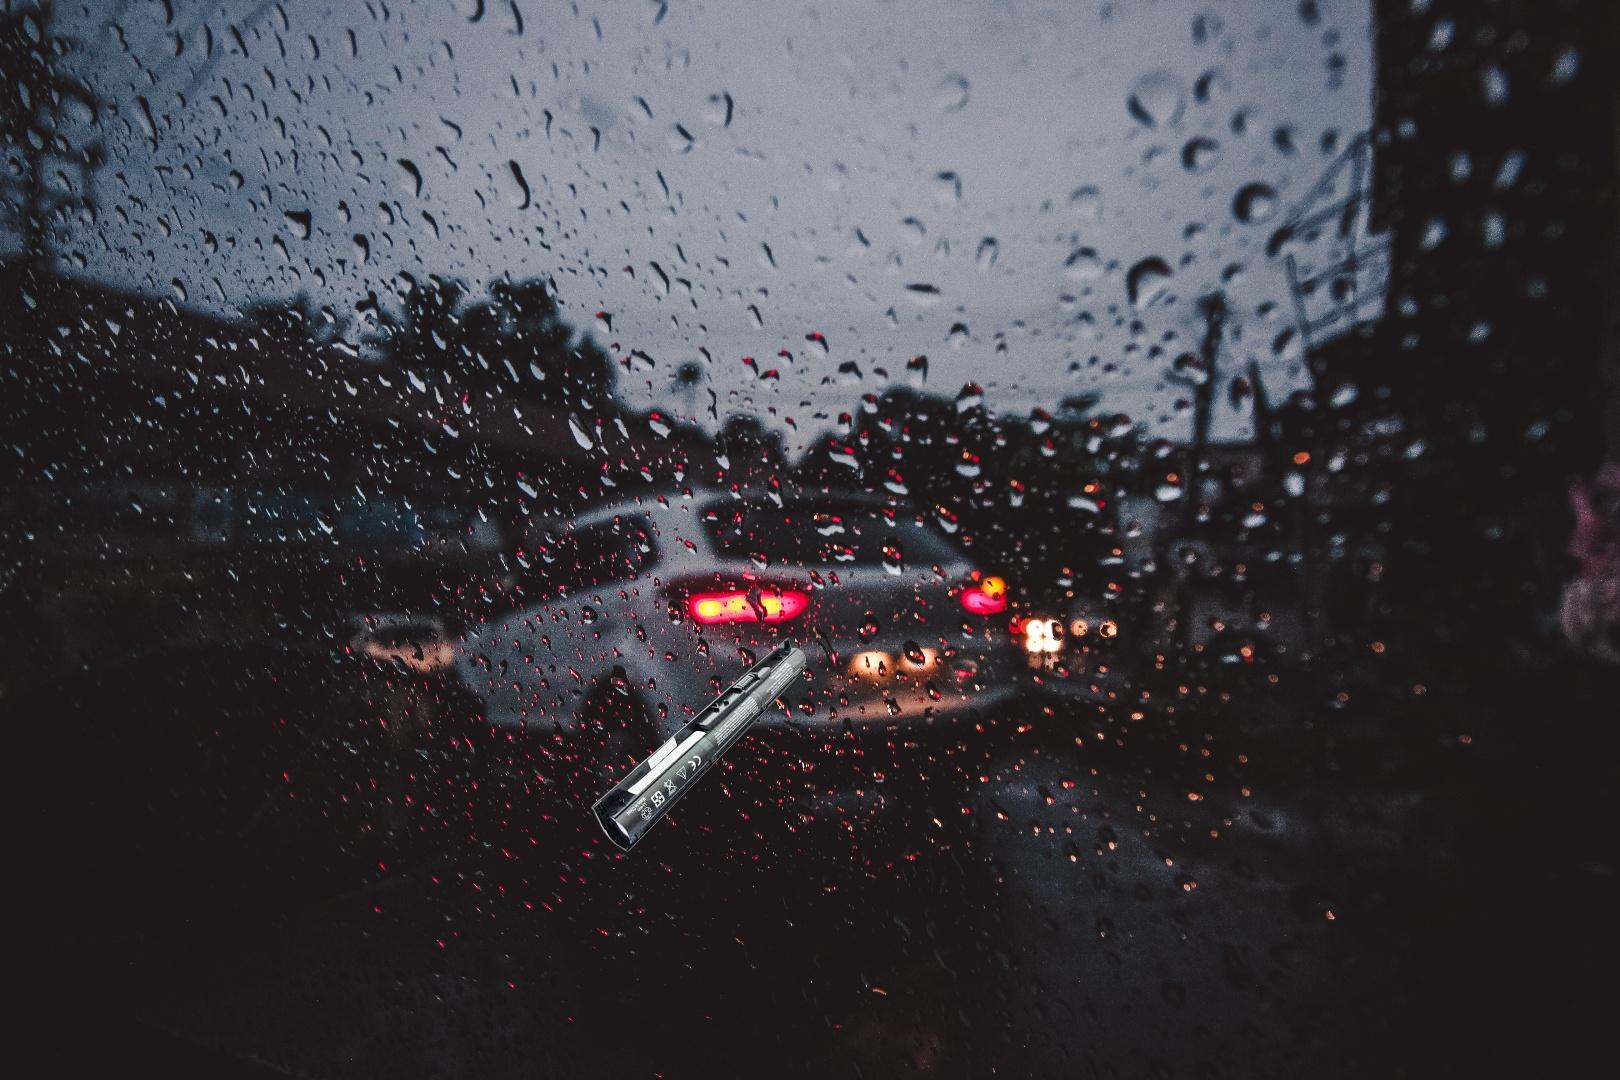battery: (586, 634, 810, 859)
